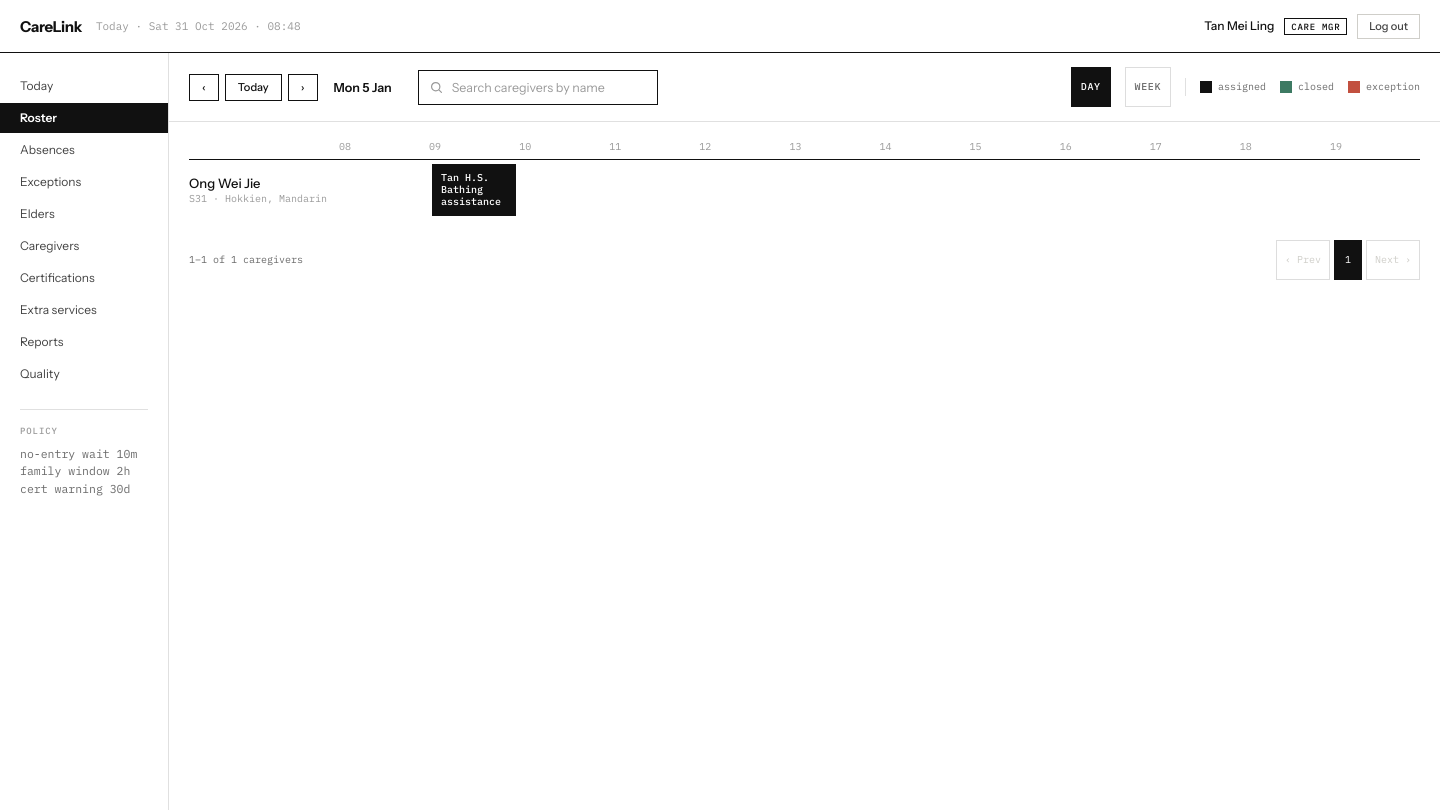
it: lets the manager cancel a visit still ahead, with a reason, leaving the rest of the roster alone
The width and height of the screenshot is (1440, 810).
Click the button with aria-label "Reassign 09:00 Tan Hock Seng from Ong Wei Jie" at (474, 190), box [432,164,516,216]
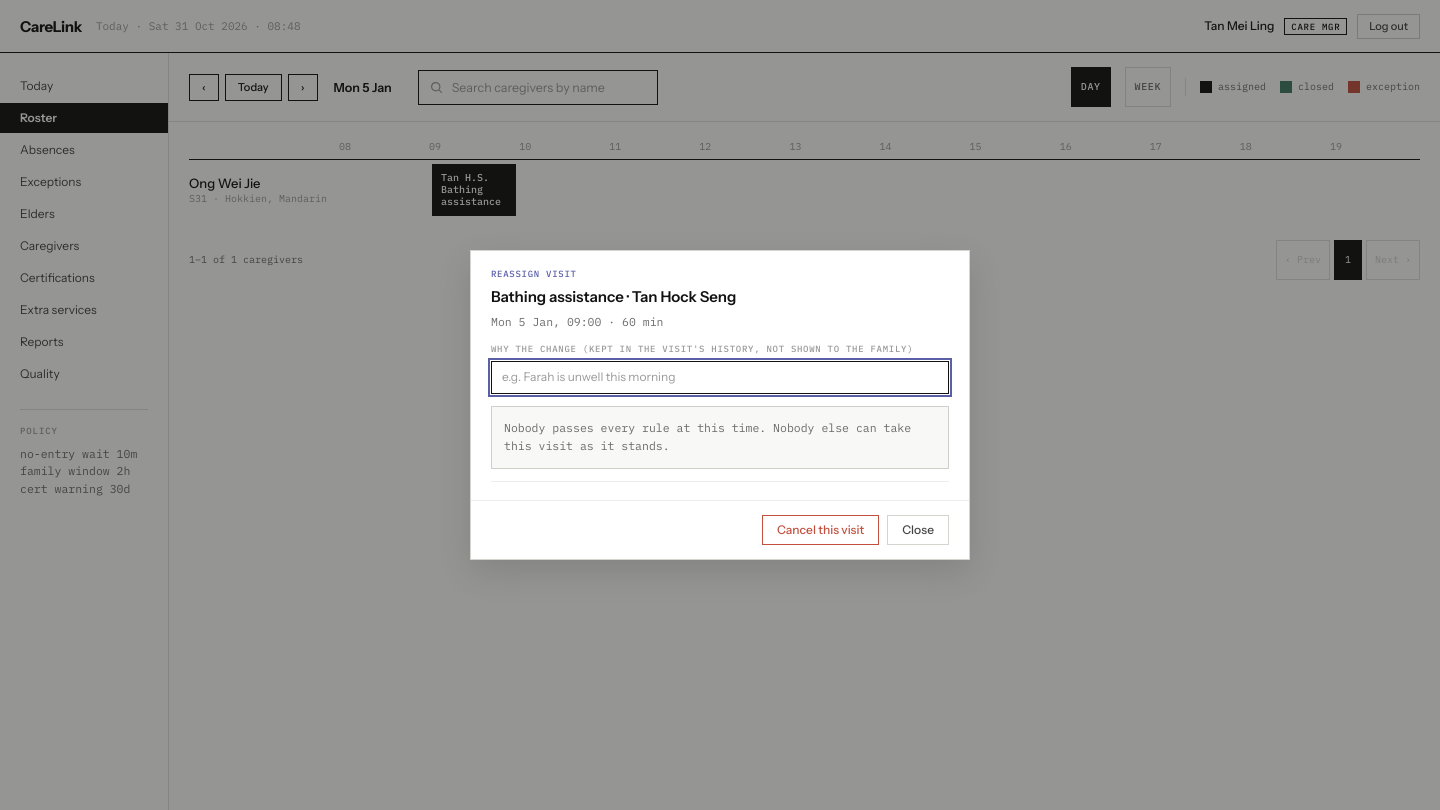
Click the button "Cancel this visit" at (821, 530), box [762,515,879,545]
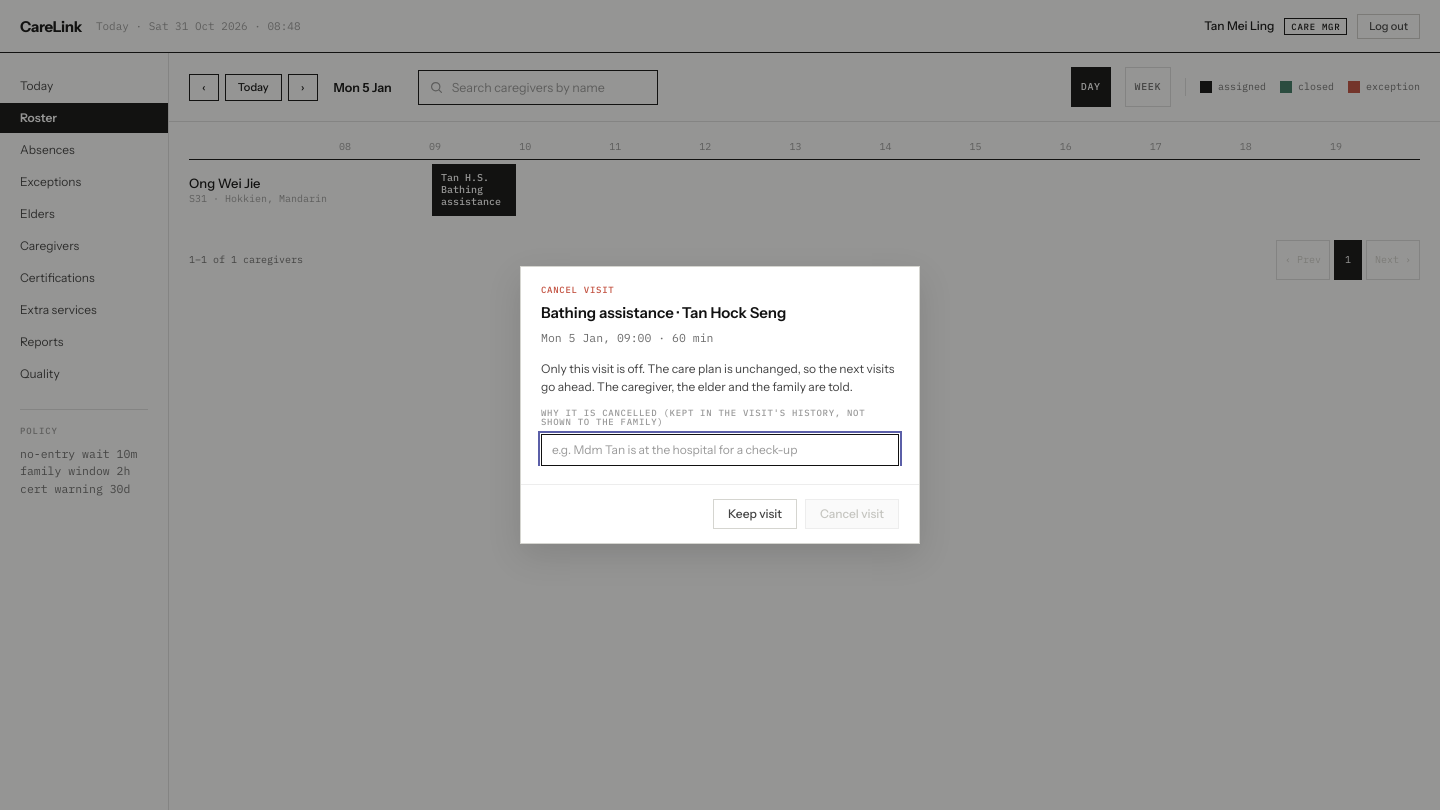
Expected: the dialog "Tan Hock Seng" shows "The care plan is unchanged", [541,361,894,394]
Expected: the button "Cancel visit" is disabled, [805,499,899,529]
Type "At the hospital for a check-up" into the field at (720, 450), box [541,434,899,466]
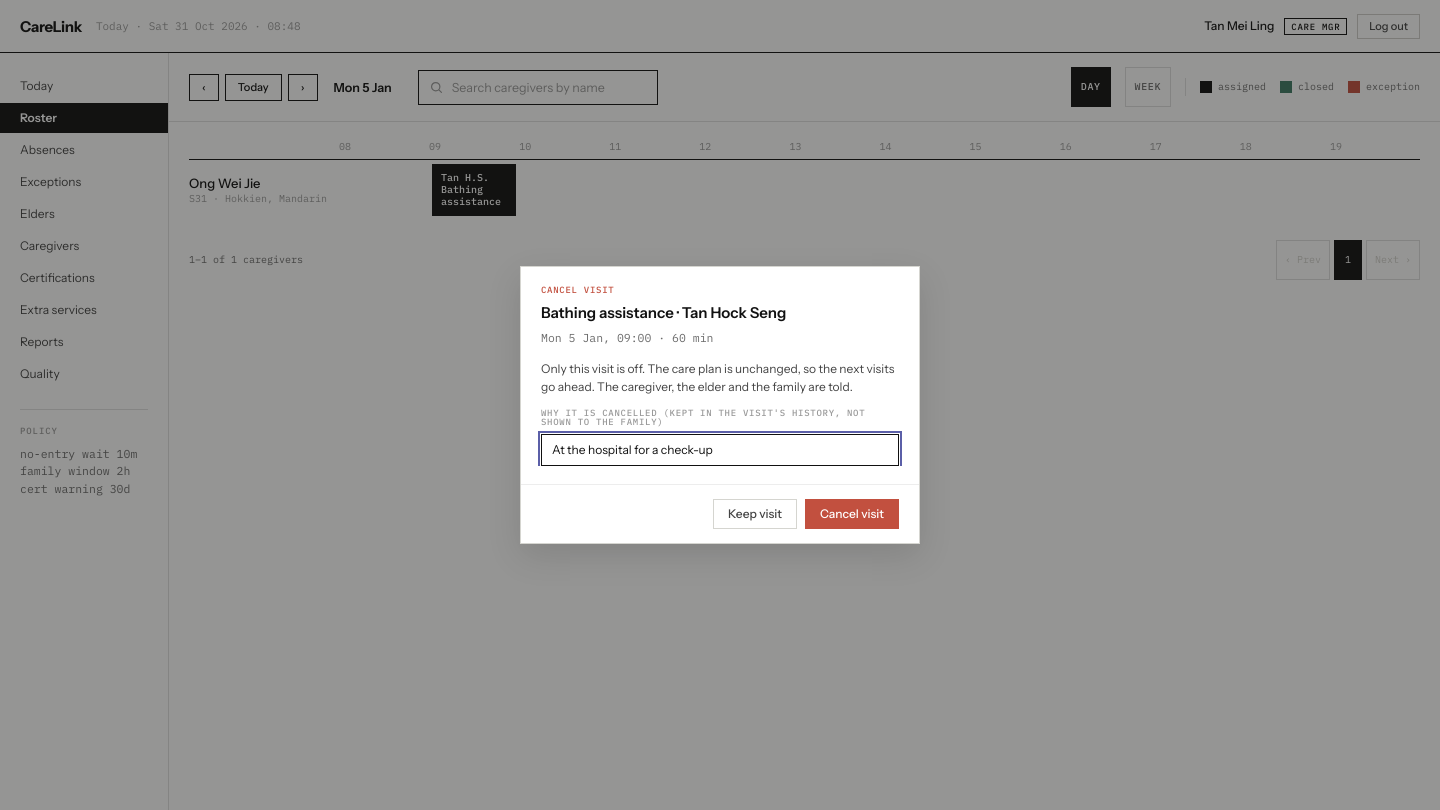
Click the button "Cancel visit" at (852, 514), box [805,499,899,529]
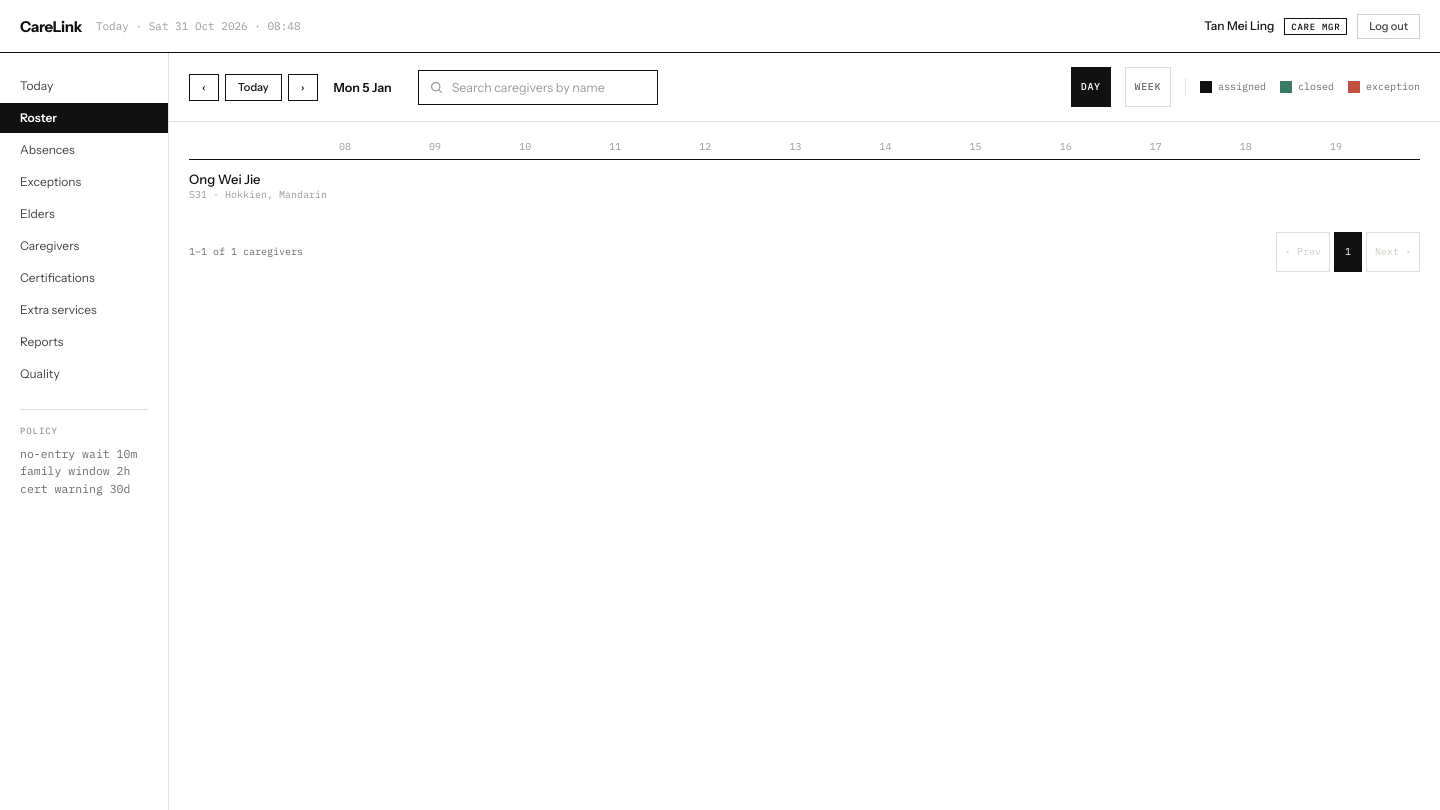
Expected: the dialog is gone
